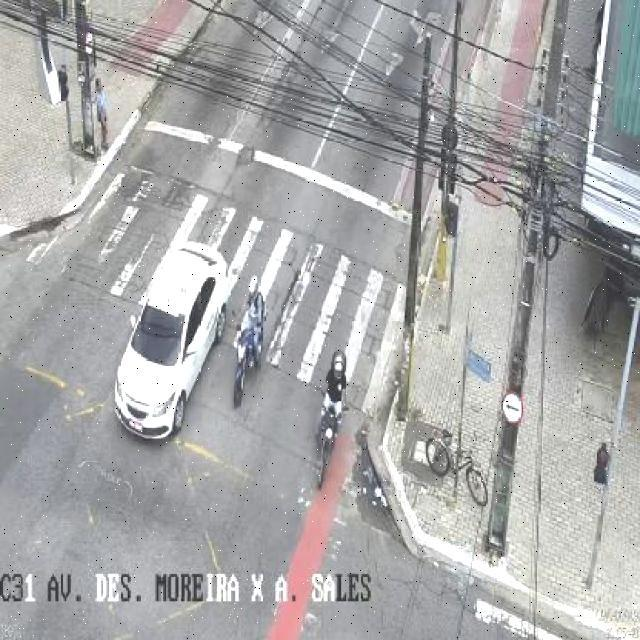Car: (93, 239, 224, 459)
Cycle: (213, 271, 280, 421), (307, 340, 360, 471)
